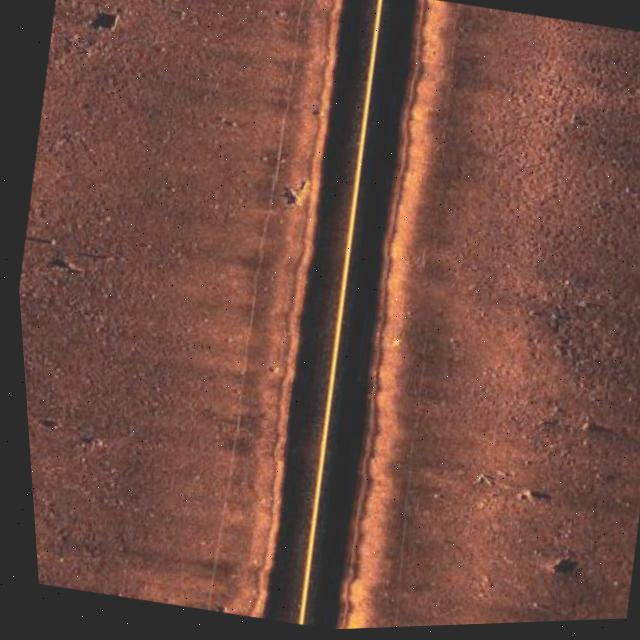mine: (92, 12, 124, 38)
other: (465, 470, 540, 513), (278, 170, 313, 215), (534, 550, 571, 583), (83, 436, 98, 451)
